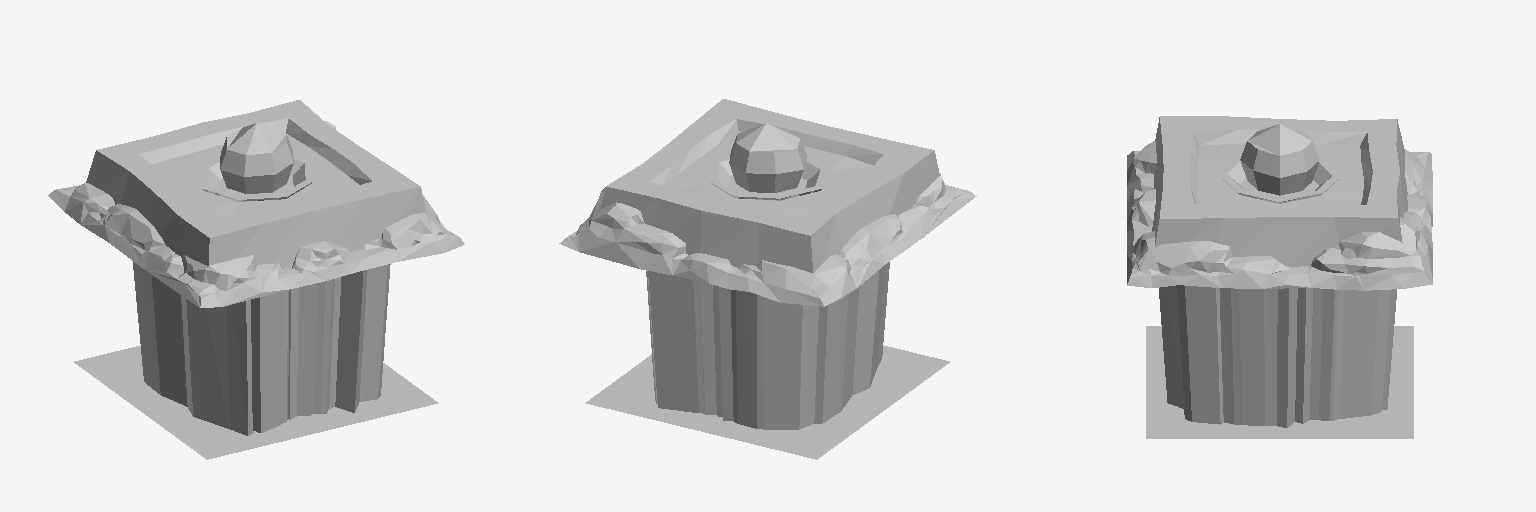
Rendered from stone_door_closed_1.obj.
The picture shows the model from 3 angles: view 1: azimuth 30°, elevation 25°; view 2: azimuth 150°, elevation 25°; view 3: azimuth 270°, elevation 25°; orthographic projection.
Parts seen in each view (by area): view 1: Plane.001; view 2: Plane.001; view 3: Plane.001.
Boxes of the visible parts, x1=… form: Plane.001: x1=48, y1=100, x2=464, y2=459; Plane.001: x1=559, y1=99, x2=976, y2=459; Plane.001: x1=1127, y1=116, x2=1432, y2=438.
Bounding box in the file's own units: 2 × 1.92 × 2.